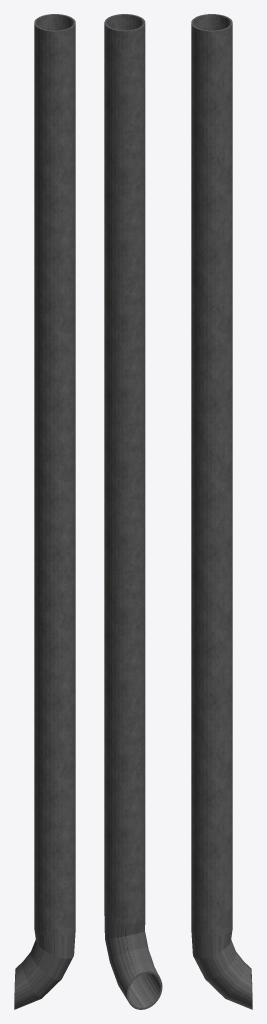
Rendered from rainDrainBottomfbx.fbx.
3 views of the same model, side by side, from view 1: azimuth 90°, elevation 25°; view 2: azimuth 210°, elevation 25°; view 3: azimuth 270°, elevation 25° (orthographic).
Visible parts, largest first — view 1: Cylinder.002; view 2: Cylinder.002; view 3: Cylinder.002.
Boxes of the visible parts, bbox=[...] form: Cylinder.002: bbox=[14, 14, 75, 1009]; Cylinder.002: bbox=[104, 14, 162, 1009]; Cylinder.002: bbox=[191, 14, 252, 1009].
Size of the model in its own units: 10 by 261 by 14.81.
